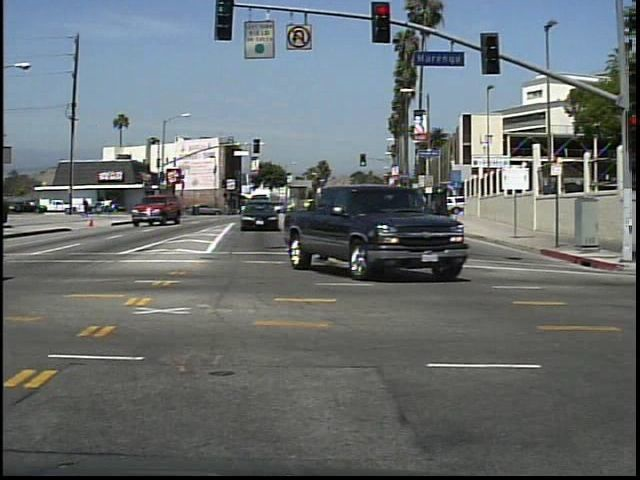person: (81, 195, 94, 220)
